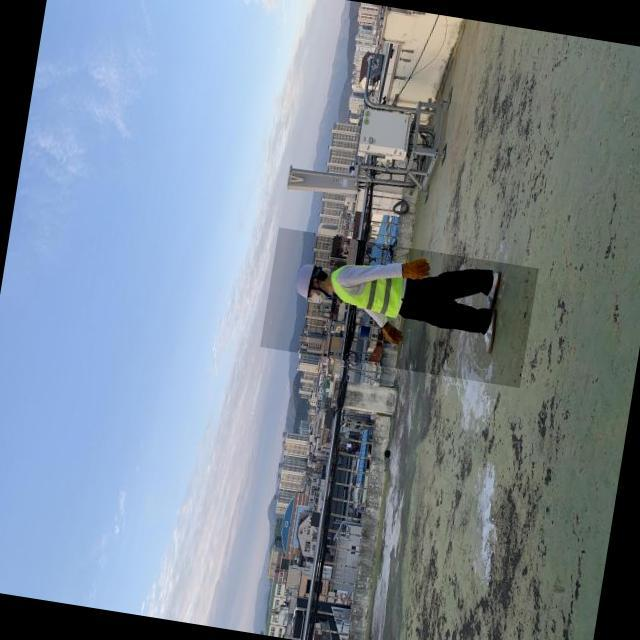Gloves: (397, 253, 437, 293), (379, 321, 411, 356)
Helmet: (289, 260, 323, 307)
Person: (275, 239, 520, 376)
Safety Boot: (482, 271, 509, 317), (478, 314, 503, 359)
Safety Vest: (328, 255, 418, 318)
